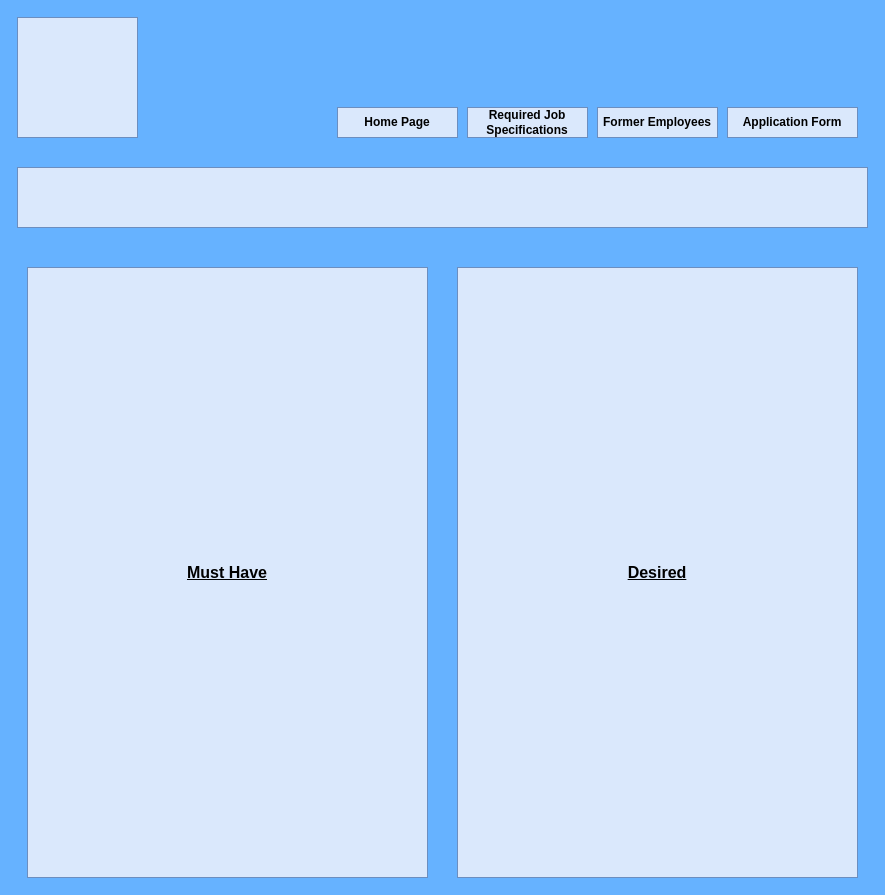
Some shapes in this 885 by 895 pixel diagram are drawn without their labels. Each missing label, with the centre of its shape:
Job Specification: (442,197)
Logo: (77,77)
